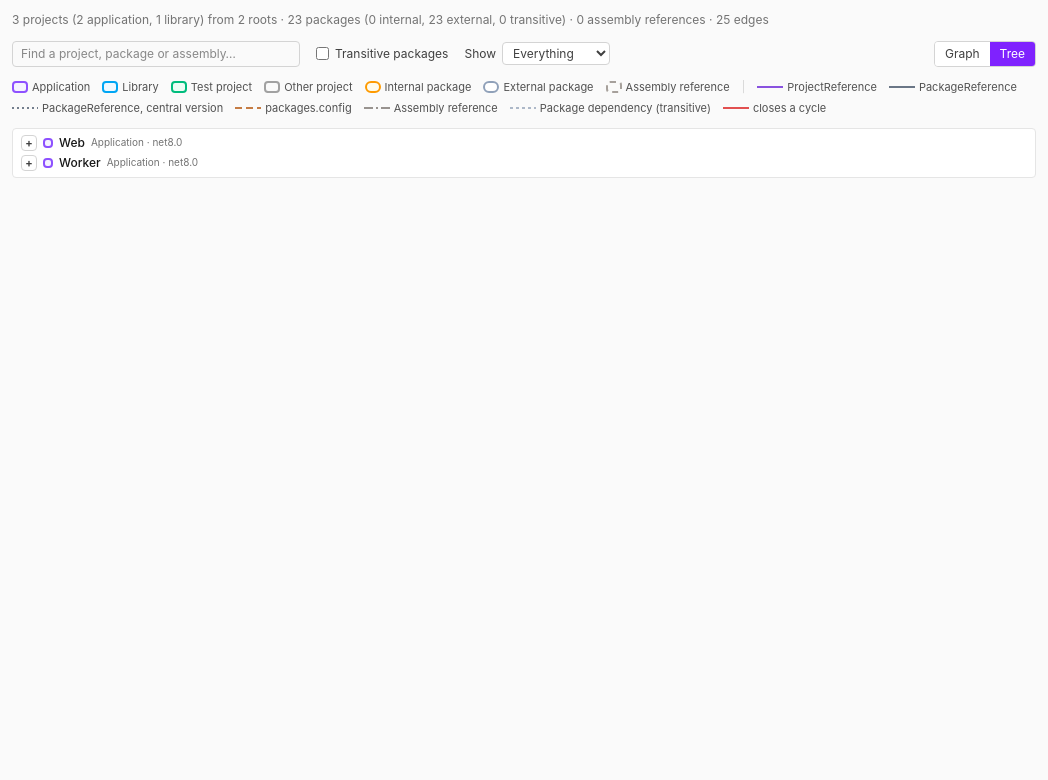
Structure, as a tree › has the same + and −, and the 20-item rule
This screenshot has width=1048, height=780.
Step 1. Click the button named "Expand Web" → x=29, y=143, box [21,135,37,151]
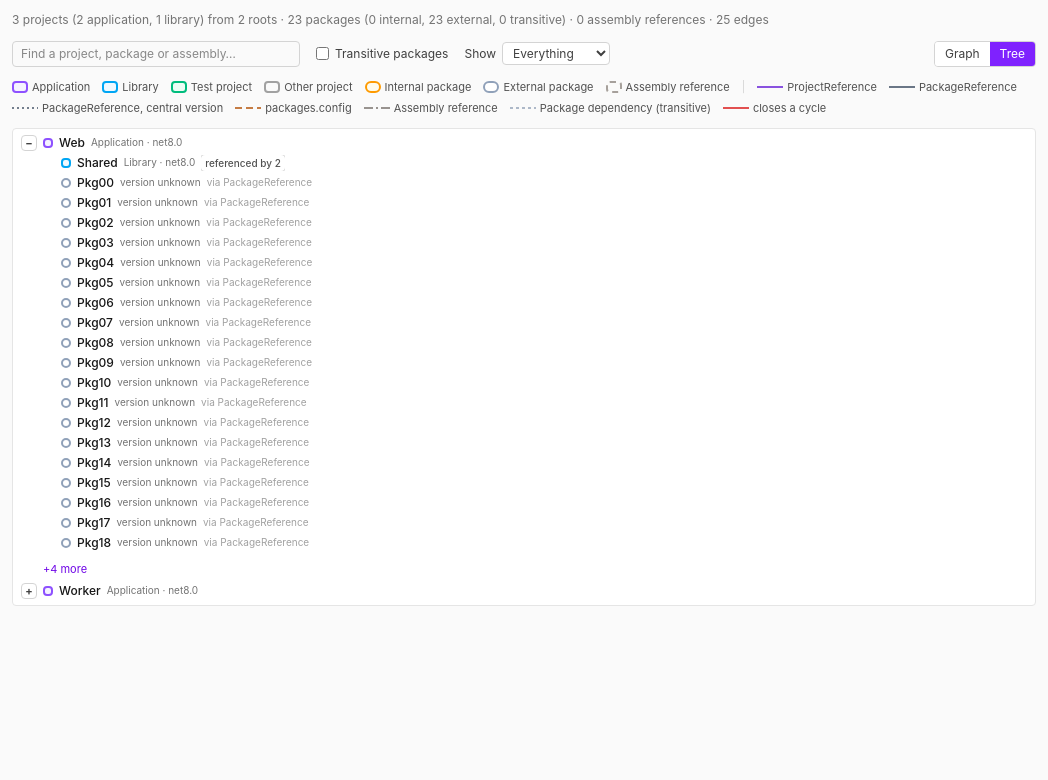
Expected: the button "+4 more" is shown, [43,561,87,578]
Step 2. Click the button named "Collapse Web" → x=29, y=143, box [21,135,37,151]
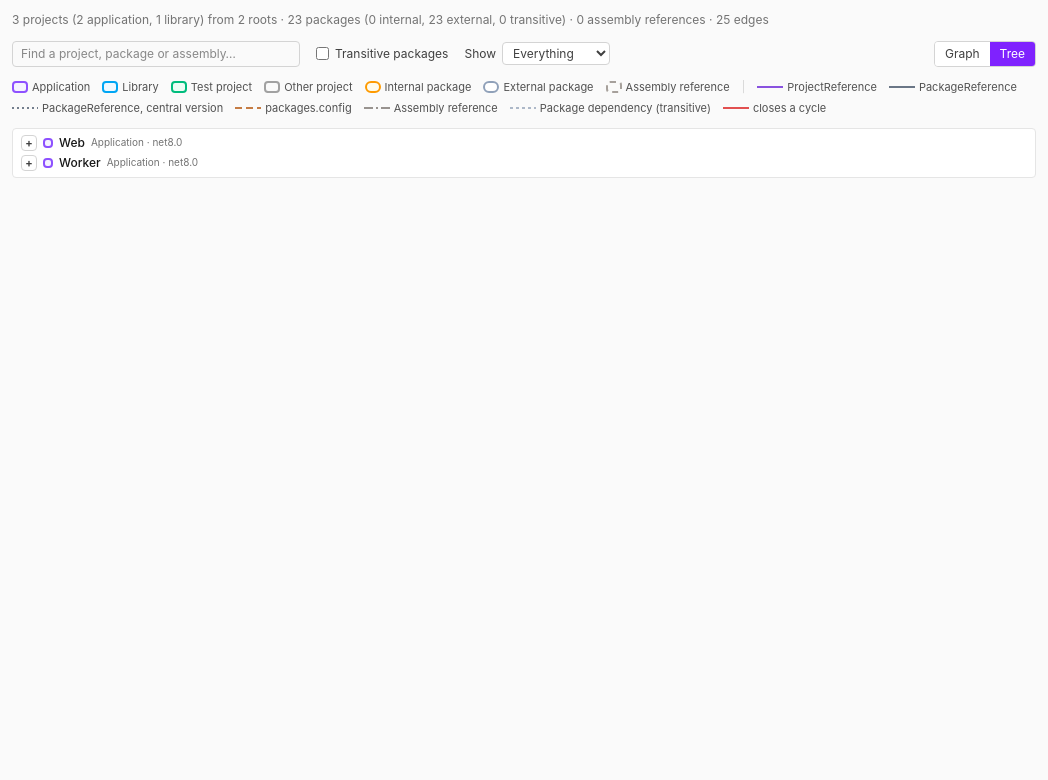
Expected: the number of list items is 2, [21,135,182,151]; [21,155,198,171]
